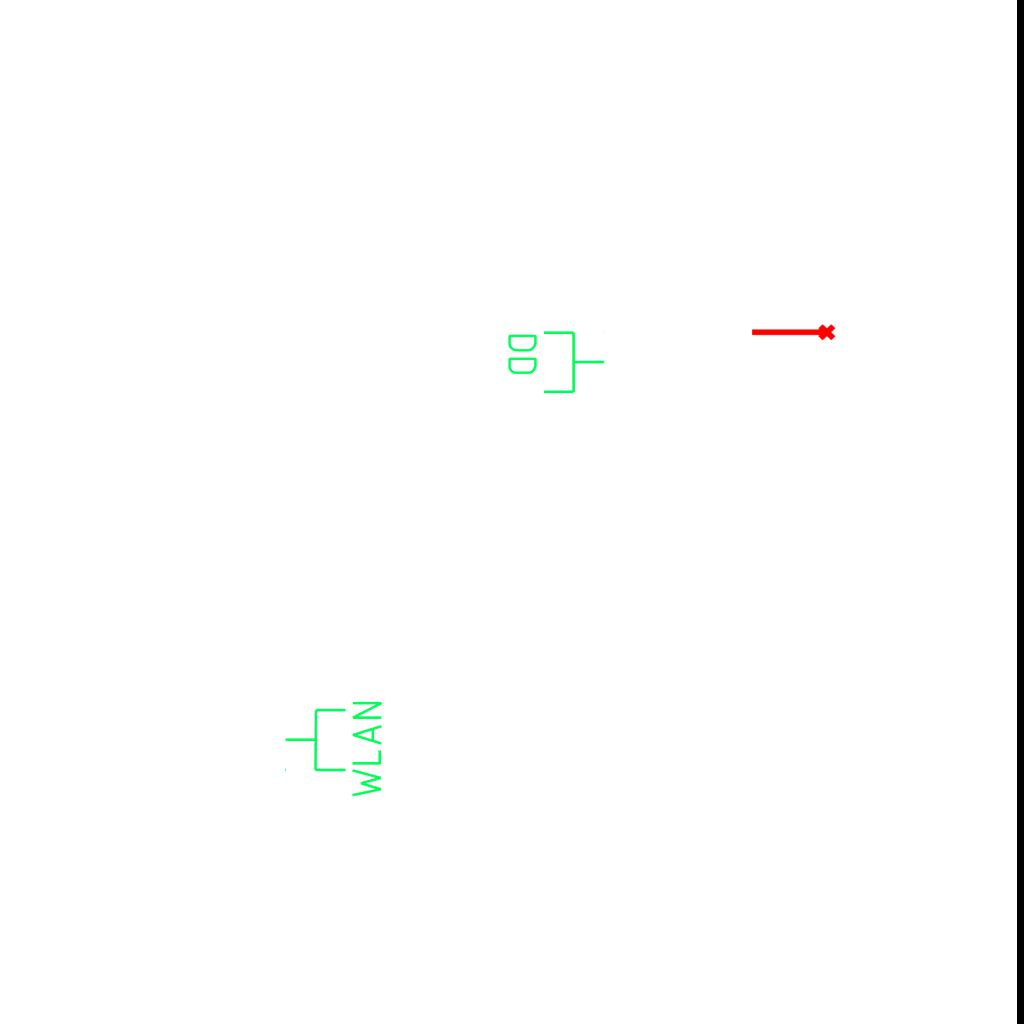ASR_Ansaugoeffnung: (749, 322, 837, 345)
Datenanschluss_zweifach: (504, 327, 607, 396)
WLAN: (282, 697, 386, 802)
